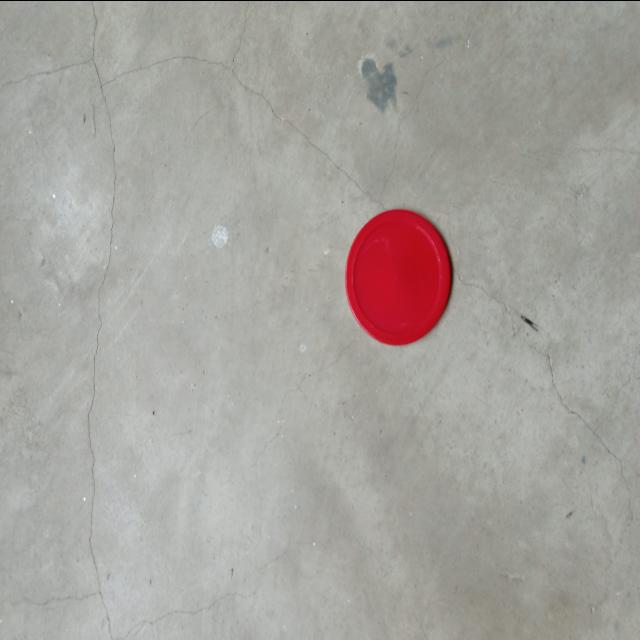chip: (345, 207, 452, 347)
